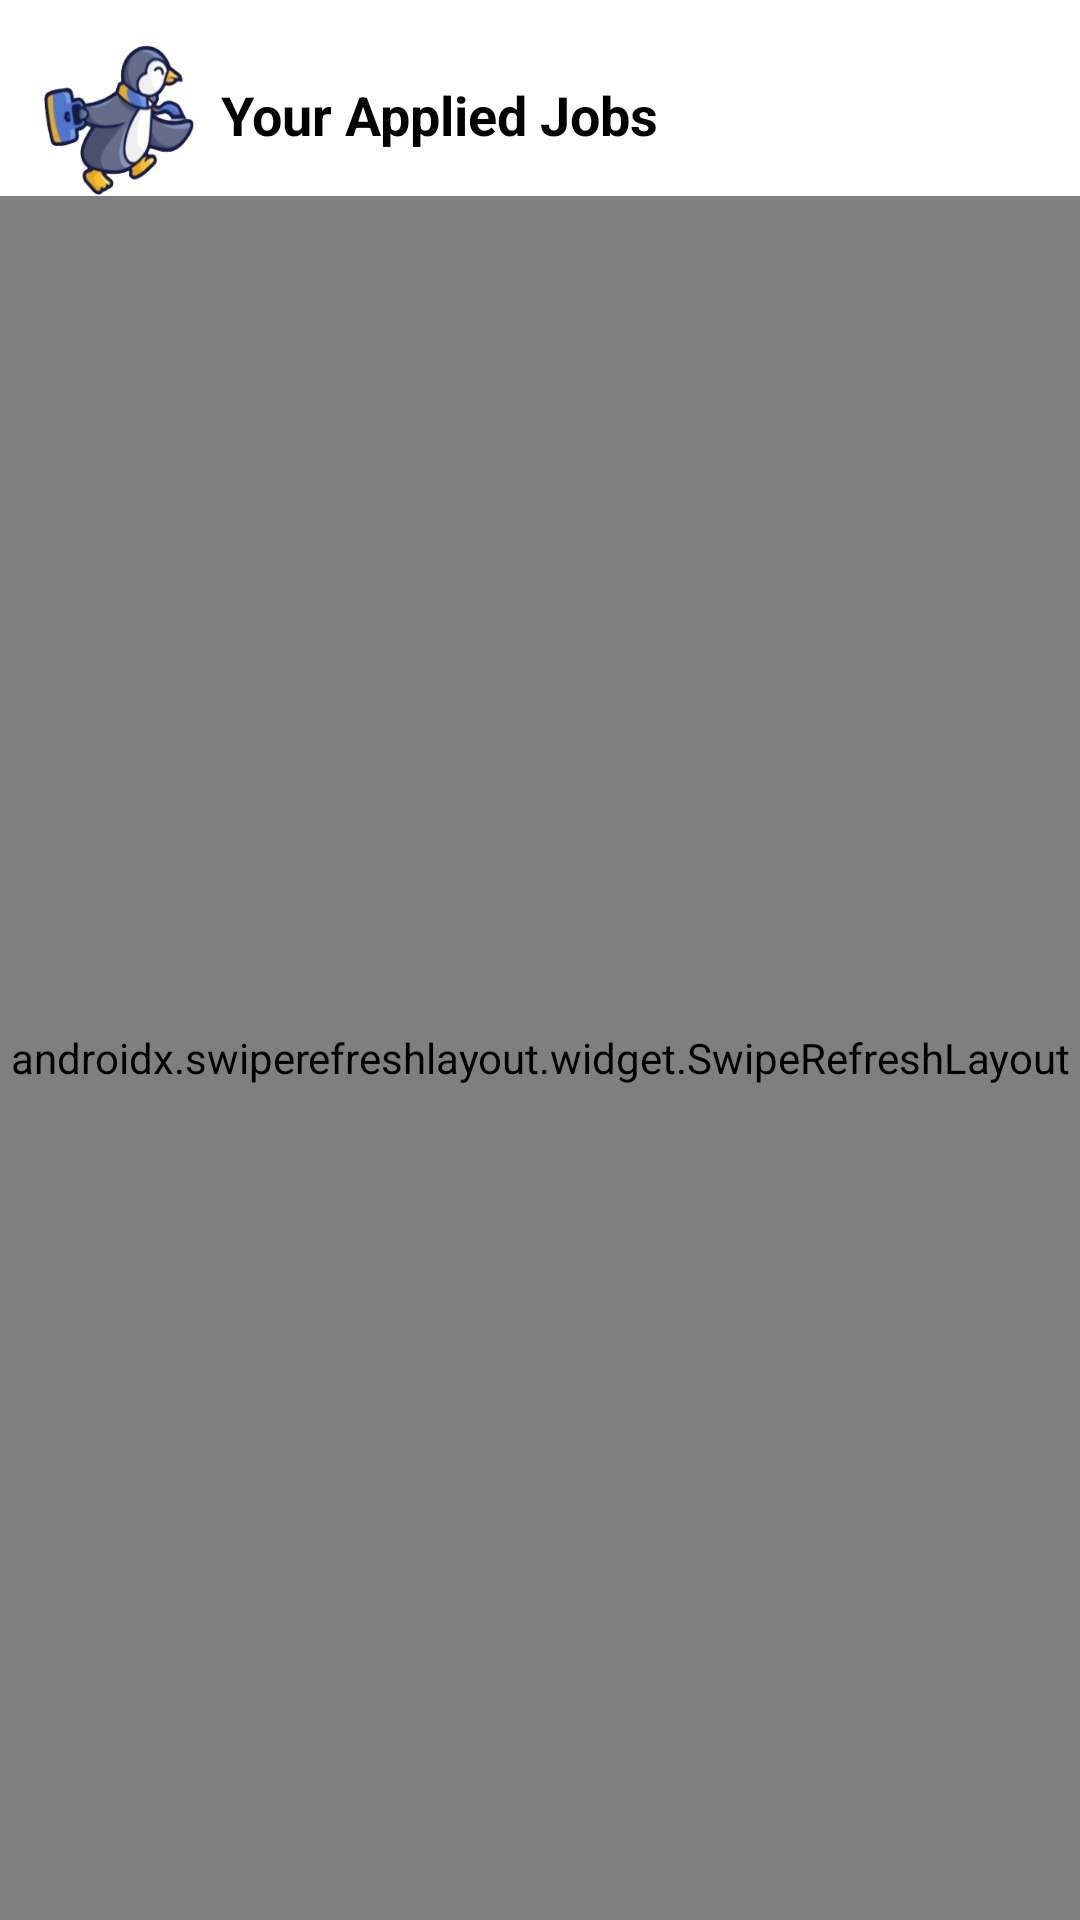

Icons on this 1080px×1920px Android screen, each with the point to tap as (x=x, y=y):
penguin: (x=119, y=120)
